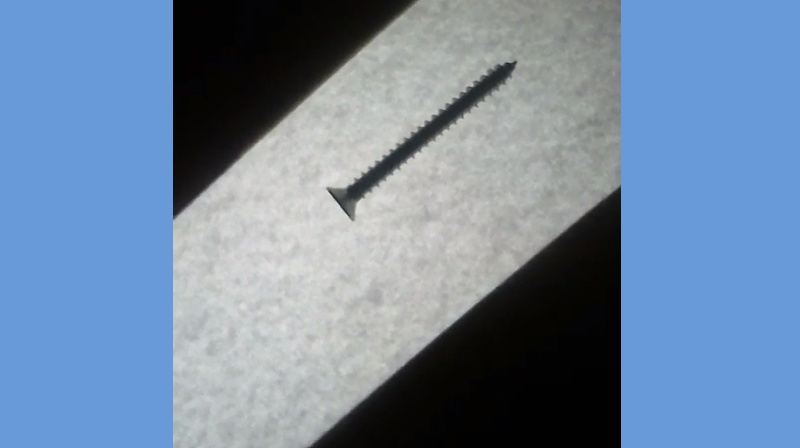S002: (322, 54, 521, 226)
